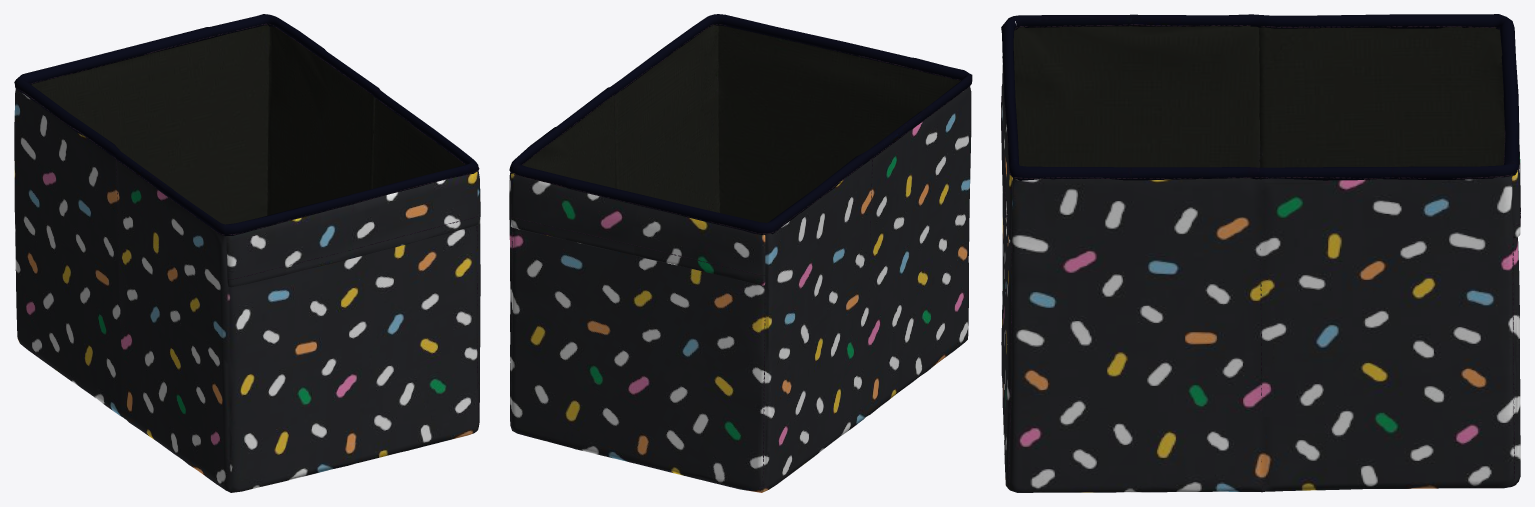
The model's file is skajare_pudeko_60618565.glb.
3 views of the same model, side by side, from view 1: azimuth 30°, elevation 25°; view 2: azimuth 150°, elevation 25°; view 3: azimuth 270°, elevation 25° (orthographic). The views are drawn at different scales.
Parts seen in each view (by area): view 1: skajare_pudeko_60618565; view 2: skajare_pudeko_60618565; view 3: skajare_pudeko_60618565.
Part boxes in pixels (x1,y1,x2,y2): skajare_pudeko_60618565: (14,14,480,492); skajare_pudeko_60618565: (509,14,972,492); skajare_pudeko_60618565: (1001,14,1520,492).
Bounding box in the file's own units: 0.274 × 0.2643 × 0.3794.
1 material, 1 textured.
